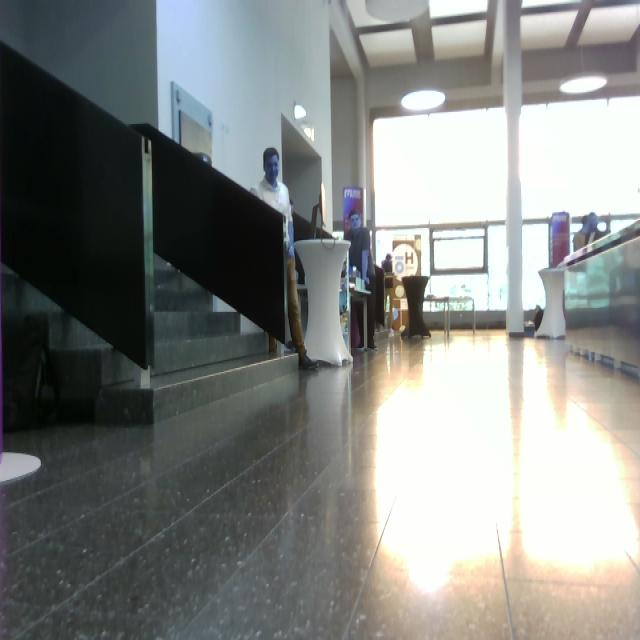door: (143, 81, 271, 376)
light bulb: (408, 553, 453, 596), (365, 1, 430, 24), (401, 89, 446, 112), (559, 75, 608, 95), (294, 104, 307, 120), (303, 125, 315, 141)
person: (249, 148, 320, 370), (344, 209, 379, 352)
pillar: (502, 1, 525, 337)
table: (293, 237, 357, 372)
tiled floor: (2, 324, 639, 638)
